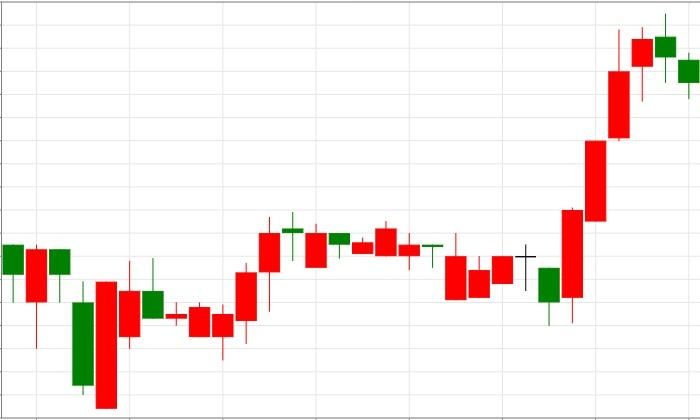bullish_engulfing_rise: (2, 244, 117, 409)
three_white_soldiers_rise: (375, 29, 630, 327)
